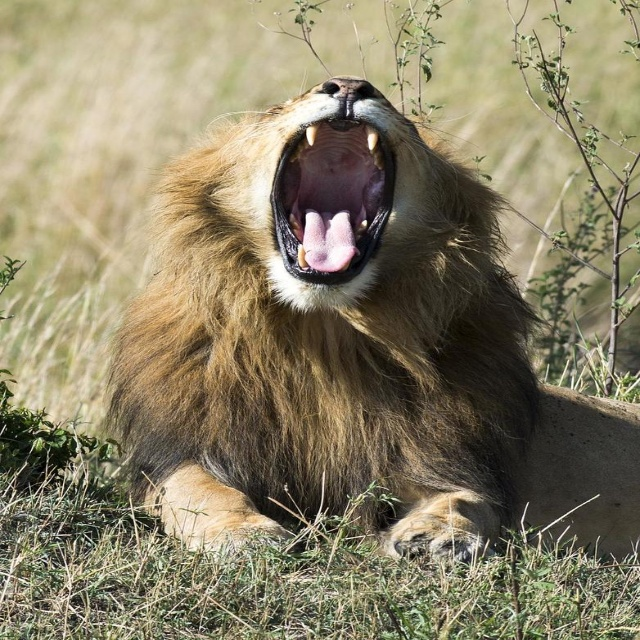Lion: (101, 70, 640, 570)
